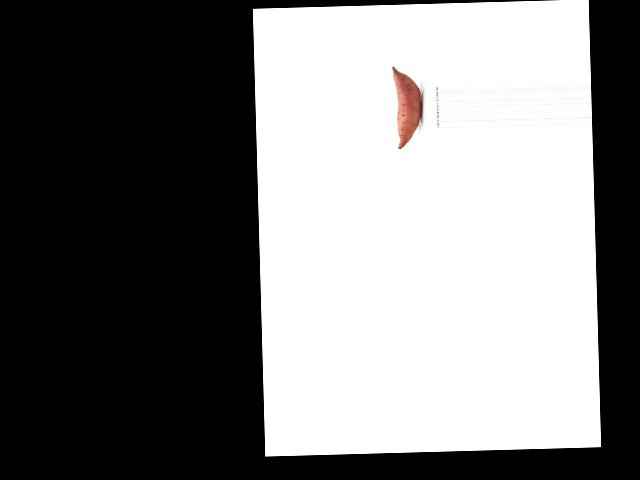sweet_potato: (387, 65, 423, 150)
